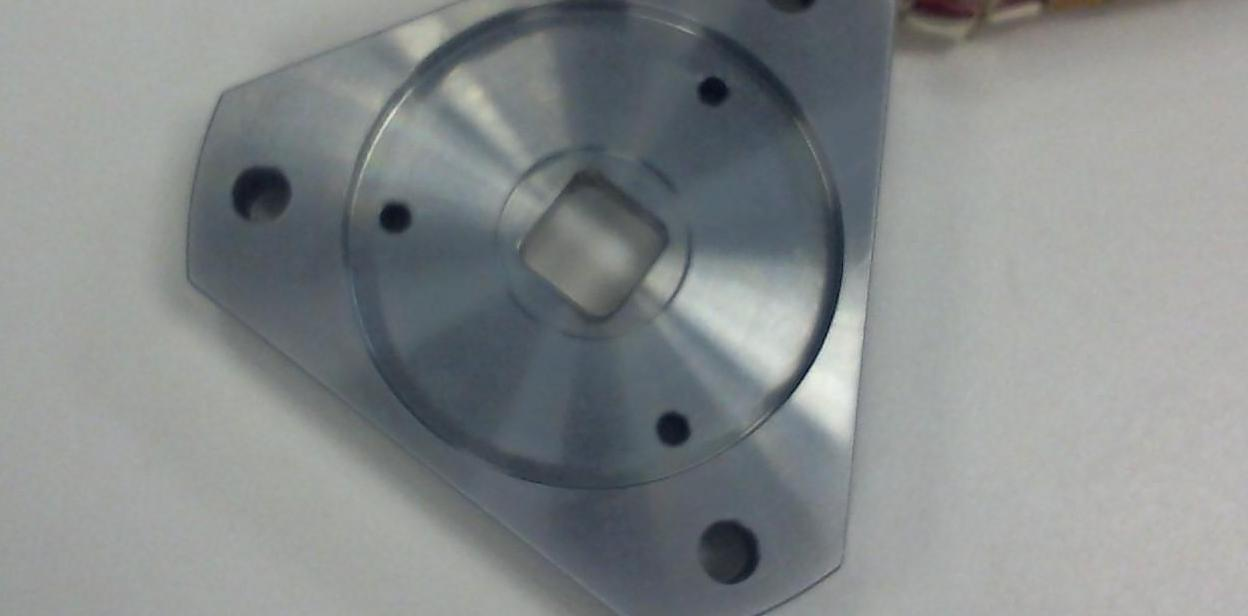hole: (221, 154, 303, 232), (696, 510, 766, 595), (652, 407, 697, 452), (694, 73, 735, 114), (376, 195, 412, 240), (758, 0, 830, 21)
